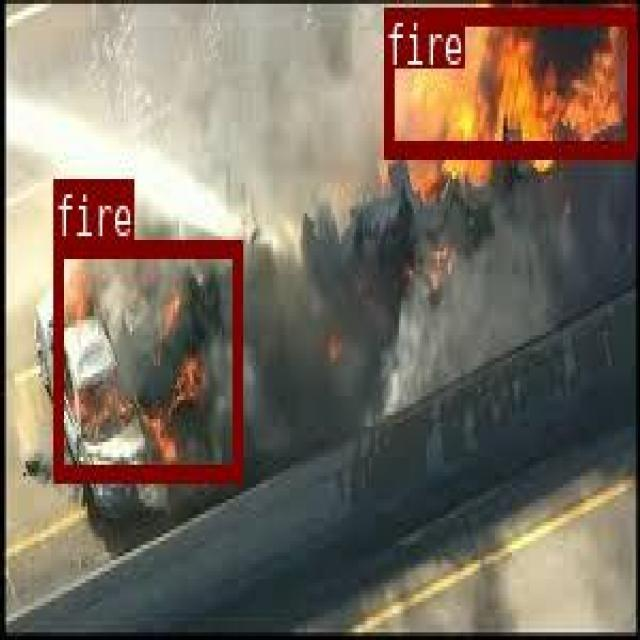fire: (52, 238, 239, 479), (384, 8, 634, 156)
